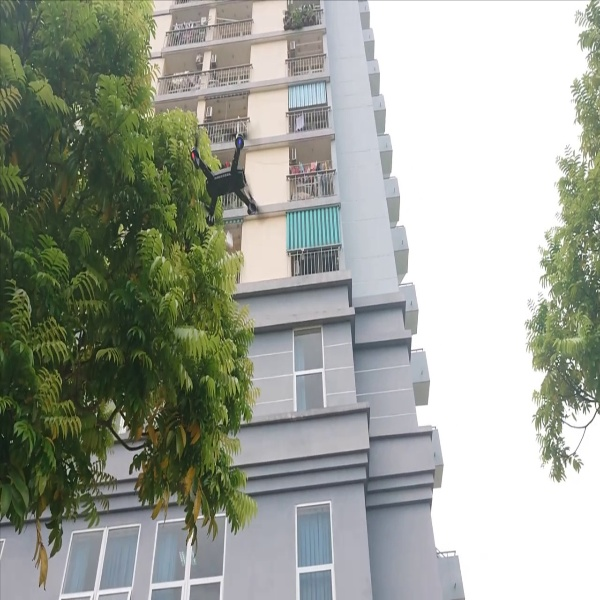drone: (179, 121, 265, 223)
